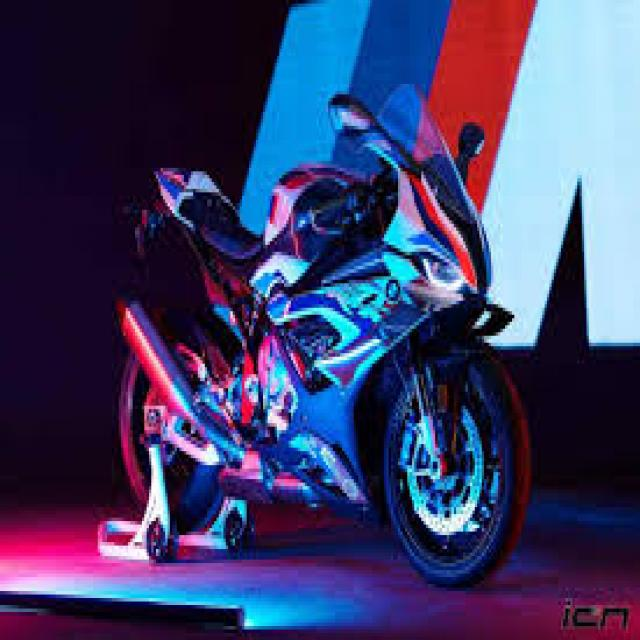Bike: (100, 104, 533, 596)
